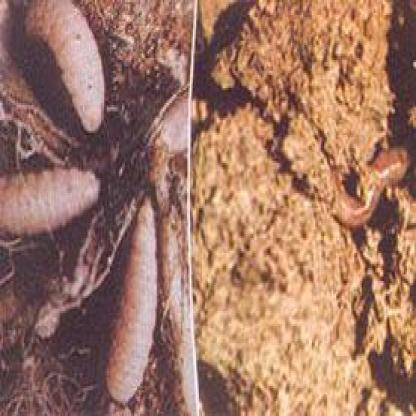whorl-maggot: (21, 0, 108, 134), (106, 200, 162, 408), (3, 168, 102, 233)
